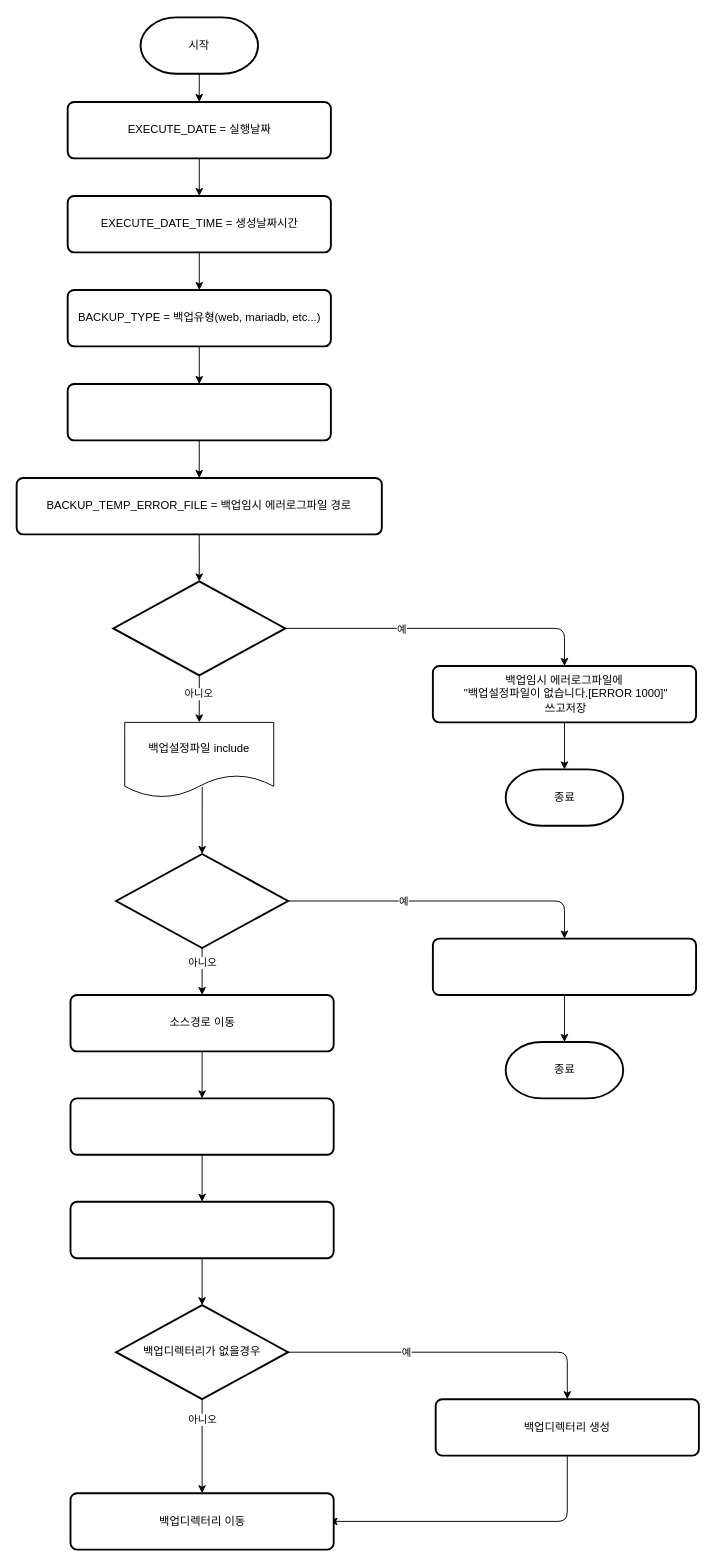
The diagram is 716 pixels wide and 1566 high, and some of its shapes have lost their labels. The centre of each missing label's shape, as x and y in pixels:
BACKUP_CONF_FILE = 백업설정파일 경로: (x=198, y=412)
web_dir_list = 소스경로의 하위 디렉터리 목록: (x=201, y=1126)
web_file_list = 소스경로의 아카이브파일을 제외한 파일 목록: (x=201, y=1229)
백업설정파일이 없을경우: (x=199, y=628)
소스경로가 없을경우: (x=202, y=900)
에러로그파일에 "소스경로가 없습니다.[ERROR 2000]" 쓰고저장: (x=564, y=966)
